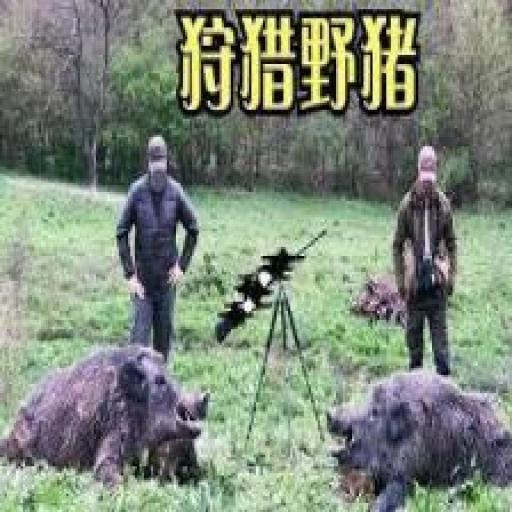Pig: (0, 338, 211, 511), (320, 359, 511, 511)
